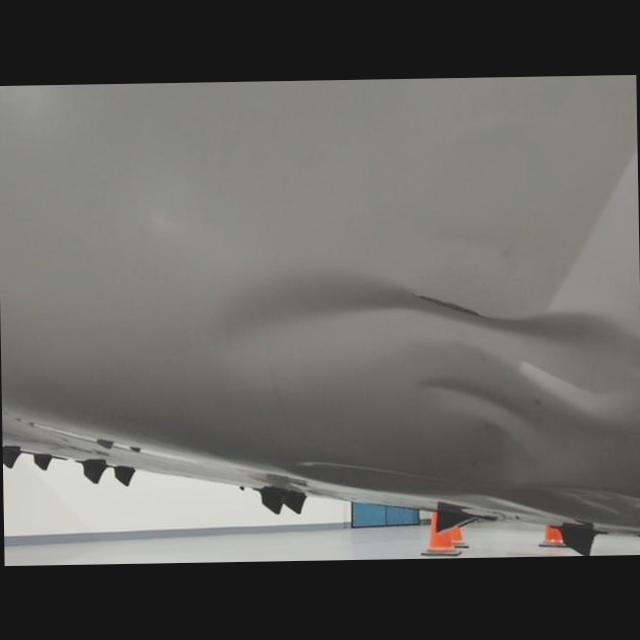dent: (218, 251, 640, 404), (398, 367, 594, 483)
